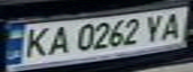0: (72, 20, 96, 53)
2: (121, 16, 148, 47), (93, 19, 112, 52)
6: (109, 17, 130, 50)
A: (157, 9, 190, 40), (45, 24, 72, 56)
K: (18, 25, 54, 60)
Y: (139, 11, 172, 43)
